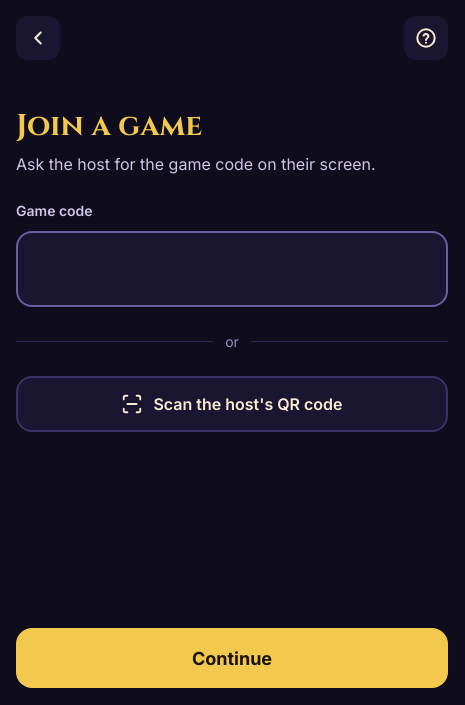
Test: CodeStep › shows "No game with code" and does not continue
The image size is (465, 705).
Type "K7QX" into the field labelled "Game code".
click(232, 269); type("K7QX")  # box [16,231,448,307]
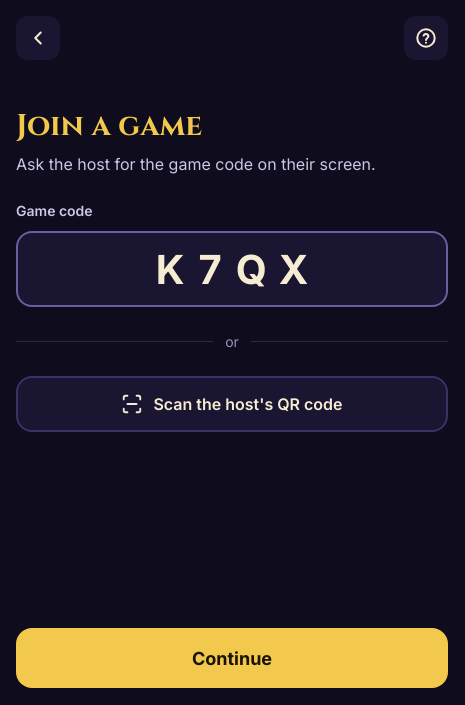
Click the button "Continue".
click(232, 658)  # box [16,628,448,688]
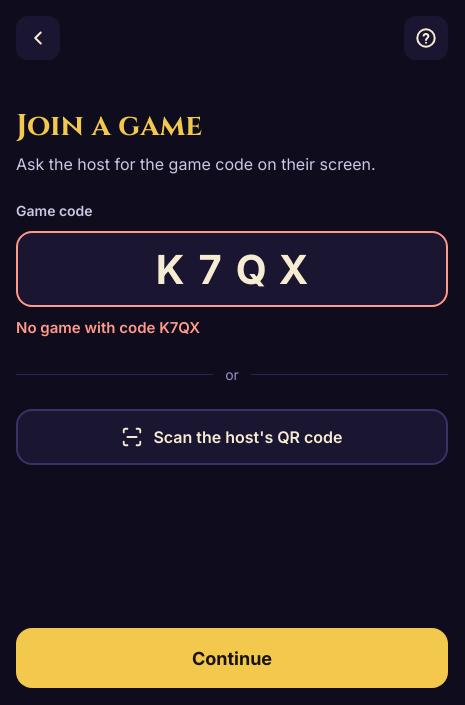
Expected: the message reads "No game with code K7QX", [16,318,200,337]
